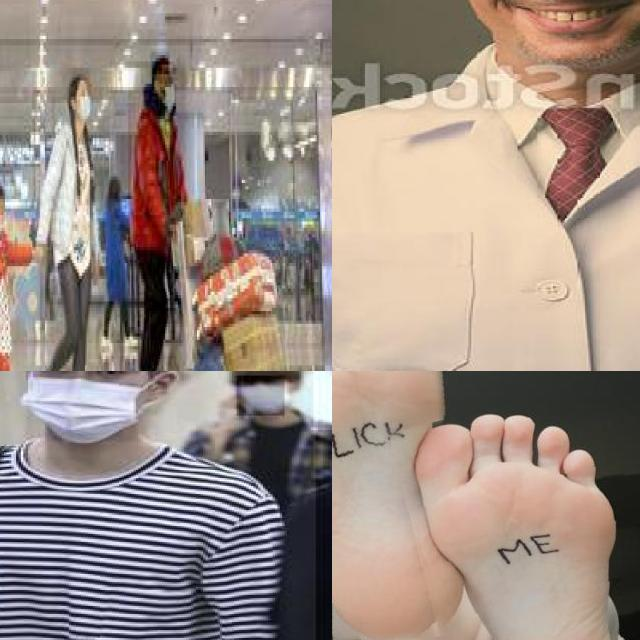Barefoots: (410, 406, 636, 640), (332, 371, 456, 640)
face_mask: (25, 371, 150, 442), (237, 376, 287, 417), (160, 68, 176, 109), (76, 84, 92, 122)
face_nomask: (470, 0, 640, 39)
head_nohelmet: (150, 52, 172, 77), (70, 68, 90, 90), (0, 176, 6, 208)
person: (332, 0, 640, 371), (0, 371, 318, 640), (128, 61, 187, 371), (45, 67, 101, 371), (0, 186, 33, 371)
